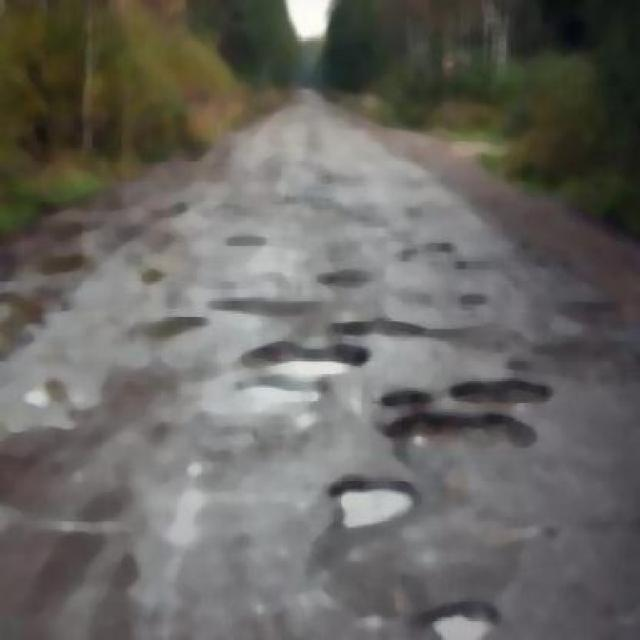Pothole: (392, 410, 540, 455), (337, 464, 414, 534), (132, 297, 214, 355), (250, 336, 361, 378), (422, 585, 506, 638), (312, 266, 373, 294), (402, 243, 463, 266)
